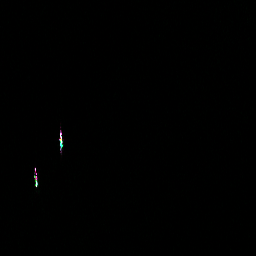ship: (57, 129, 65, 151), (32, 172, 40, 189)
